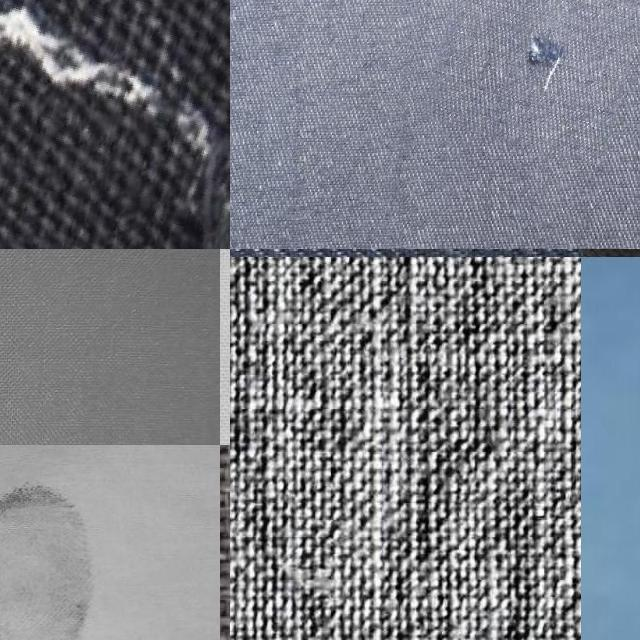Hole: (0, 445, 192, 640)
Thread_other: (430, 0, 636, 156)
